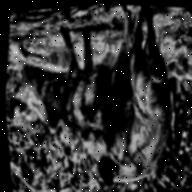boar: (63, 5, 192, 192), (11, 6, 149, 161)
